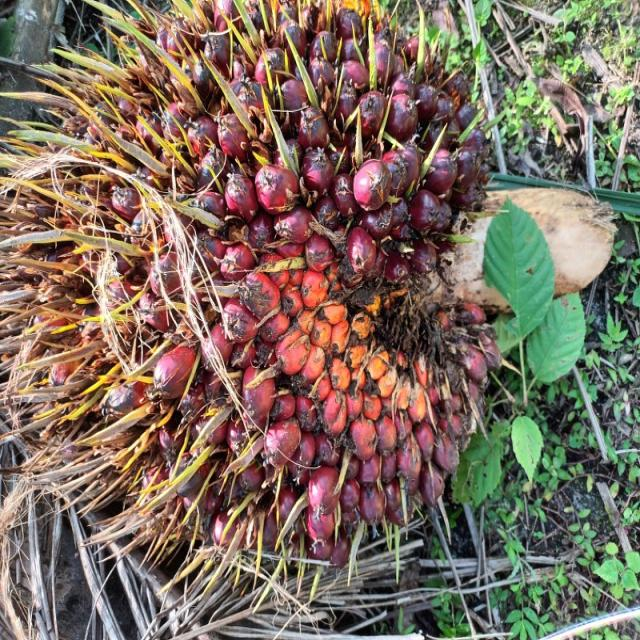fraksi 3: (30, 10, 475, 640)
